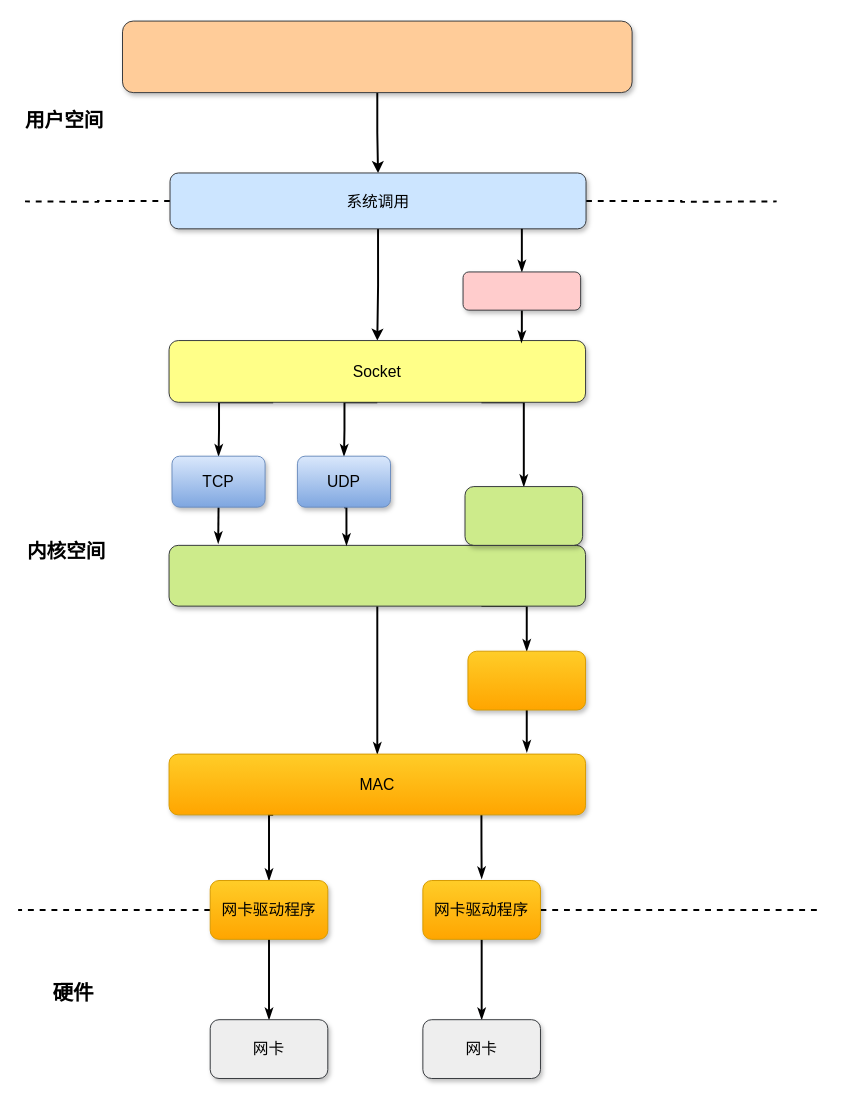
This 841x1103 diagram has some shape labels left out. The shapes that lost their labels are listed below. From the top down, each one's centre as x and y in pixels, then its label:
pixel 378 57: 应用程序
pixel 522 292: LVS
pixel 524 517: ICMP
pixel 377 576: IP
pixel 527 681: ARP
